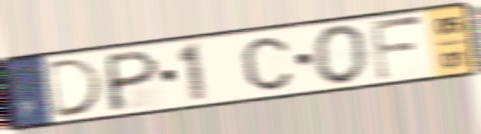1: (177, 39, 213, 106)
C: (239, 35, 296, 93)
D: (45, 56, 109, 121)
F: (367, 14, 426, 83)
O: (310, 22, 371, 87)
P: (106, 47, 162, 114)
